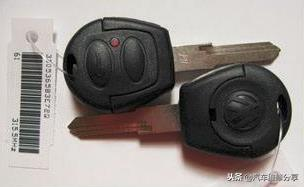key: (66, 62, 295, 159), (59, 12, 284, 107)
